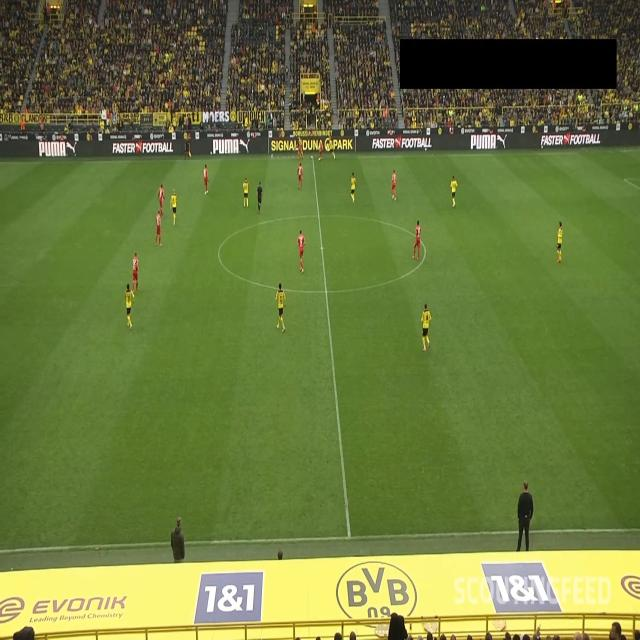ball: (310, 154, 313, 160)
